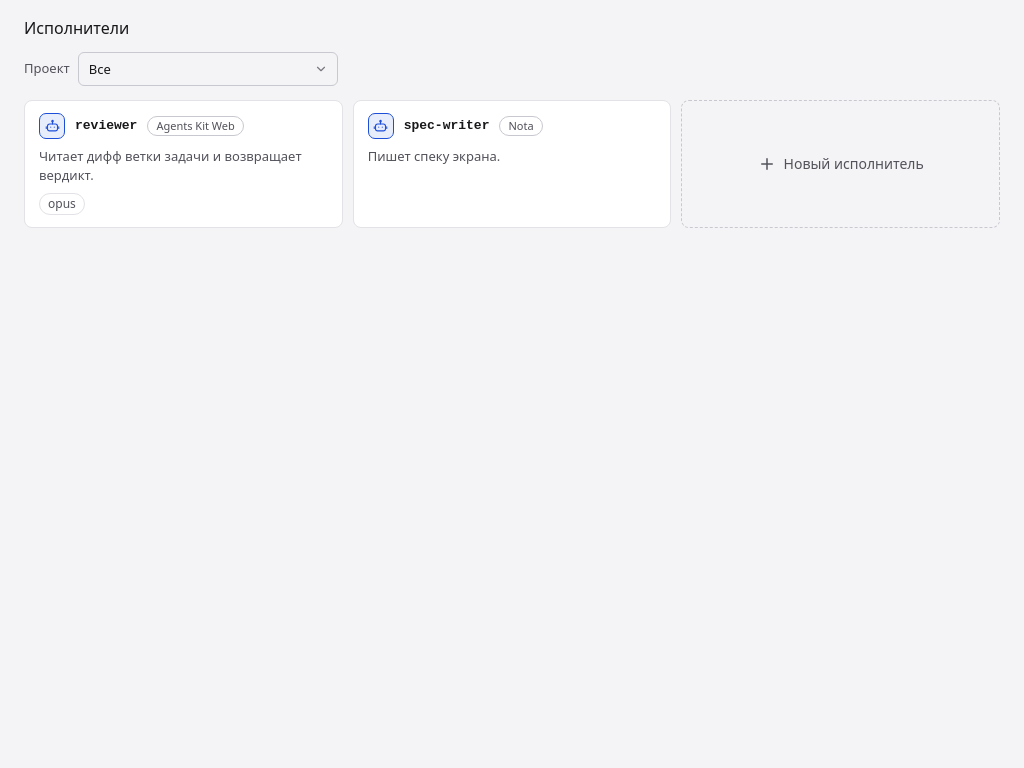
Test: кнопки «Править» нет: окно исполнителя открывает клик по карточке
Expected: the button with aria-label "reviewer, Agents Kit Web" is enabled, [24,100,343,228]
Click the button with aria-label "spec-writer, Nota".
click(447, 126)  # box [353,100,671,228]
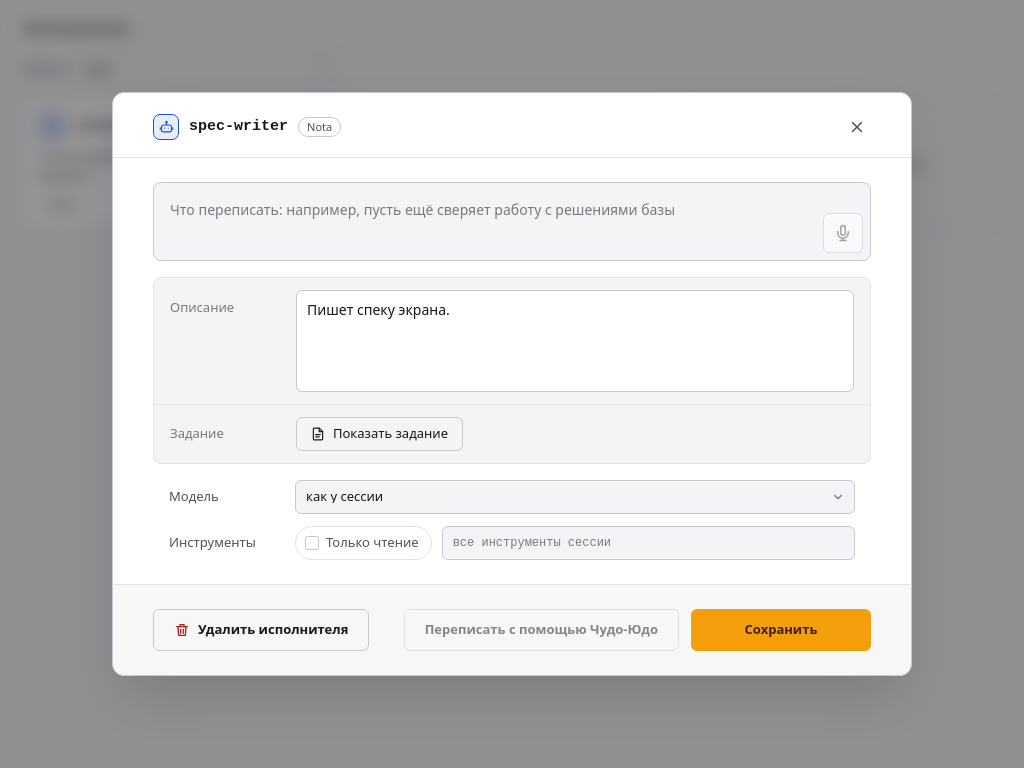
Expected: the dialog shows "spec-writer", [189,118,288,135]
